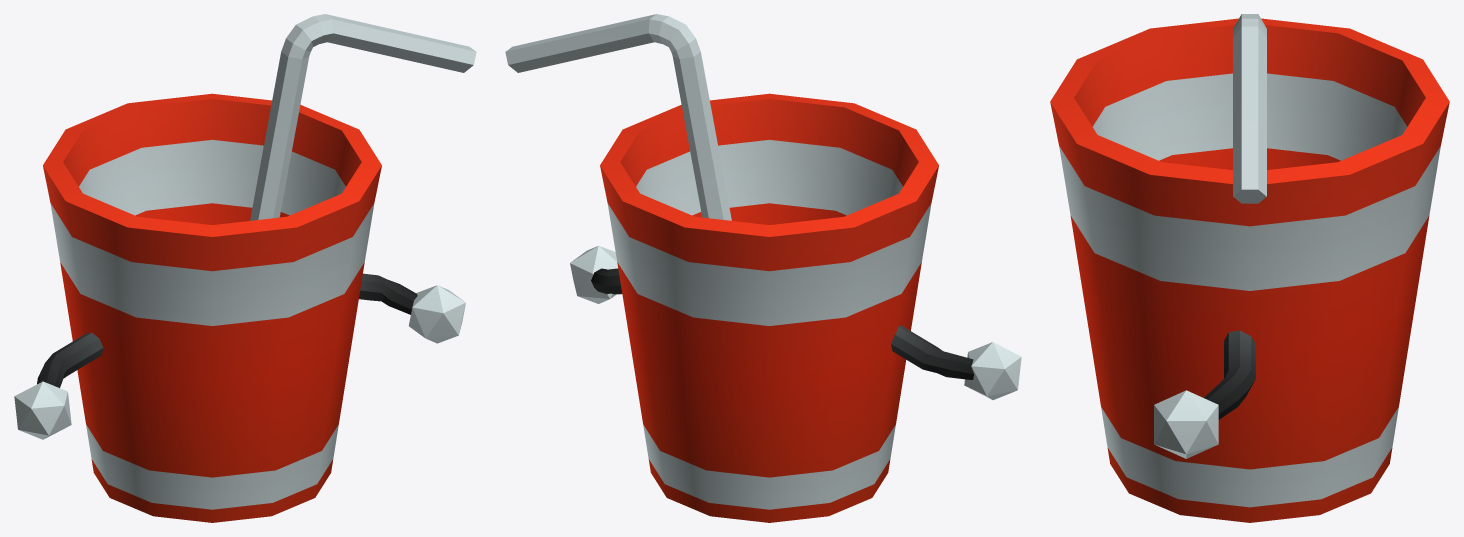
Rendered from vaso_papel.fbx.
3 renders of one model, left to right at view 1: azimuth 30°, elevation 25°; view 2: azimuth 150°, elevation 25°; view 3: azimuth 270°, elevation 25°, orthographic. The views are drawn at different scales.
Parts seen in each view (by area): view 1: vaso_papel; view 2: vaso_papel; view 3: vaso_papel.
Boxes of the visible parts, x1,y1,x2,y2 form: vaso_papel: (14, 14, 476, 522); vaso_papel: (505, 14, 1021, 522); vaso_papel: (1050, 14, 1449, 522).
Size of the model in its own units: 74.48 by 63.25 by 45.38.
